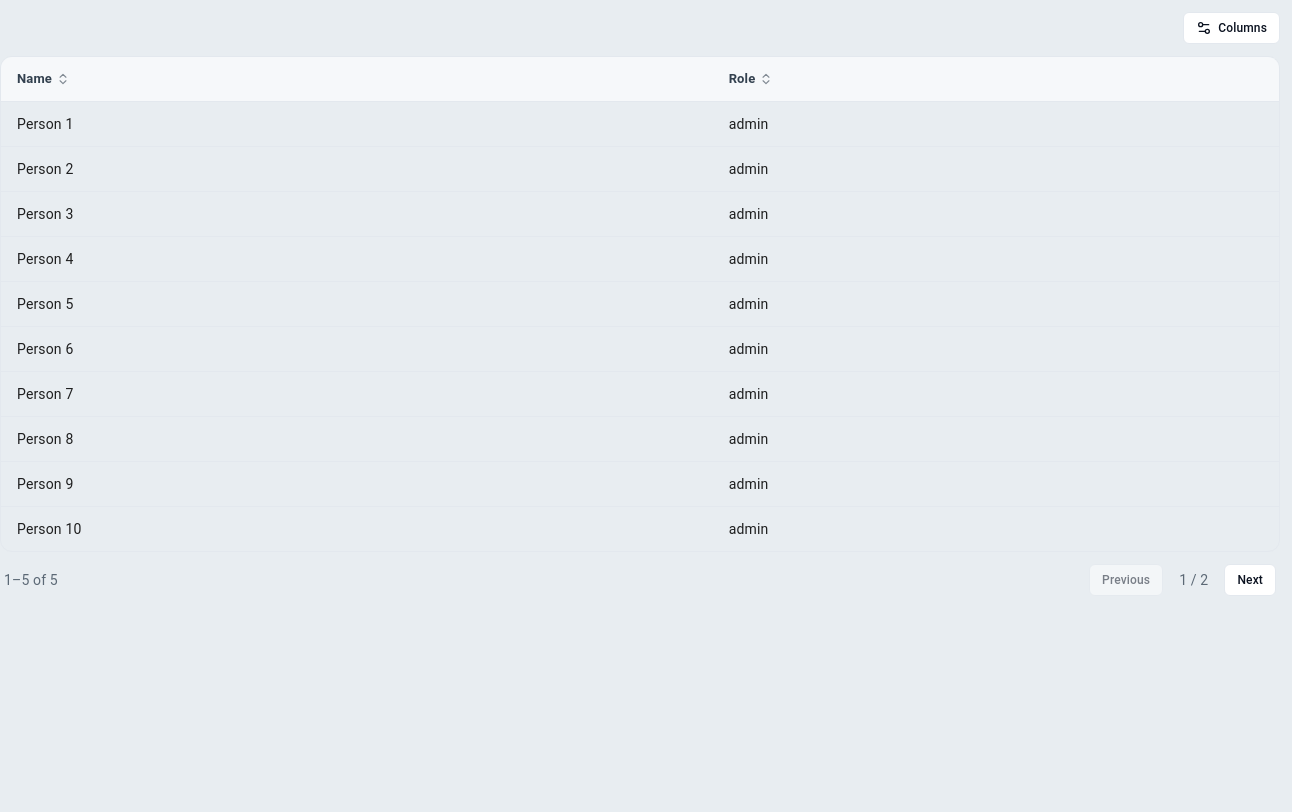
DataTable — pagination › paginates by the real row count when totalCount undercounts the actual rows given
Check: the text "Person 1" is shown, box [1, 101, 713, 146]
Check: the text "Person 10" is shown, box [1, 506, 713, 550]
Click the button "Next". click: coordinates (1250, 580)
box: [1224, 564, 1276, 596]
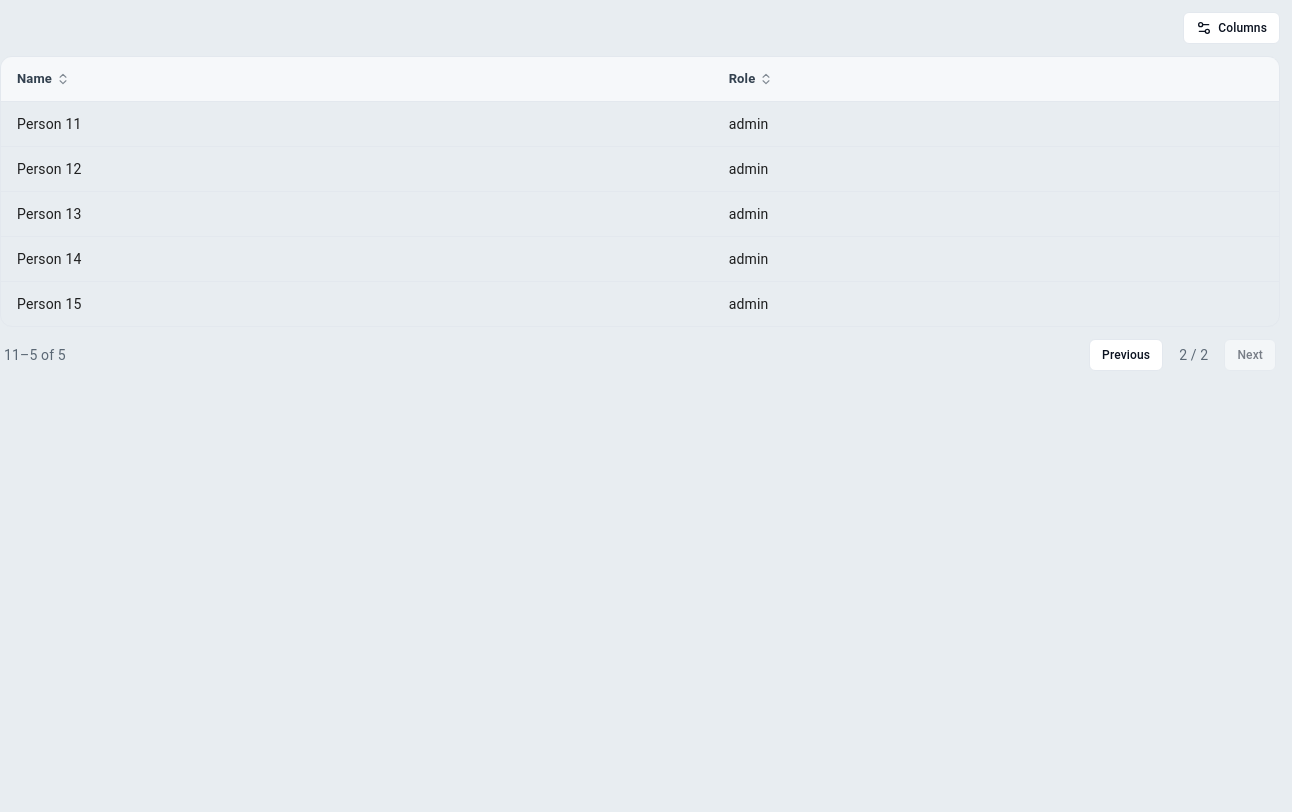
Check: the text "Person 11" is shown, box [1, 101, 713, 146]
Check: the text "Person 15" is shown, box [1, 281, 713, 326]
Check: the button "Next" is disabled, box [1224, 338, 1276, 370]
